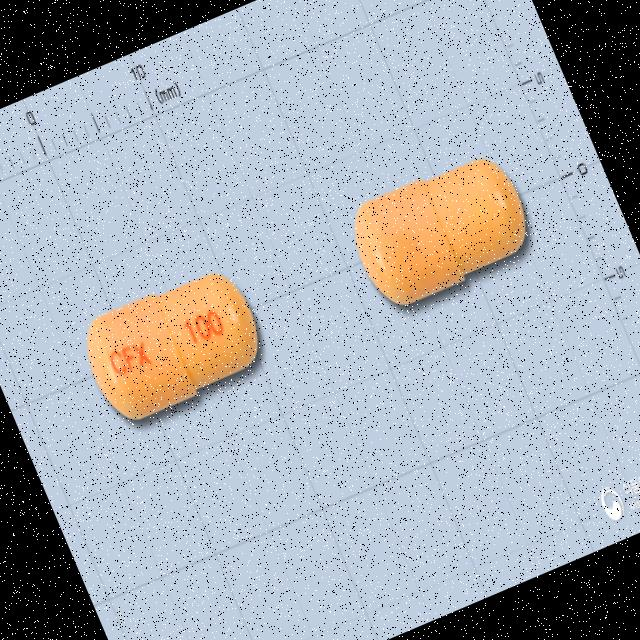Kukje Cefixime Cap: (338, 143, 542, 314), (72, 258, 274, 430)
